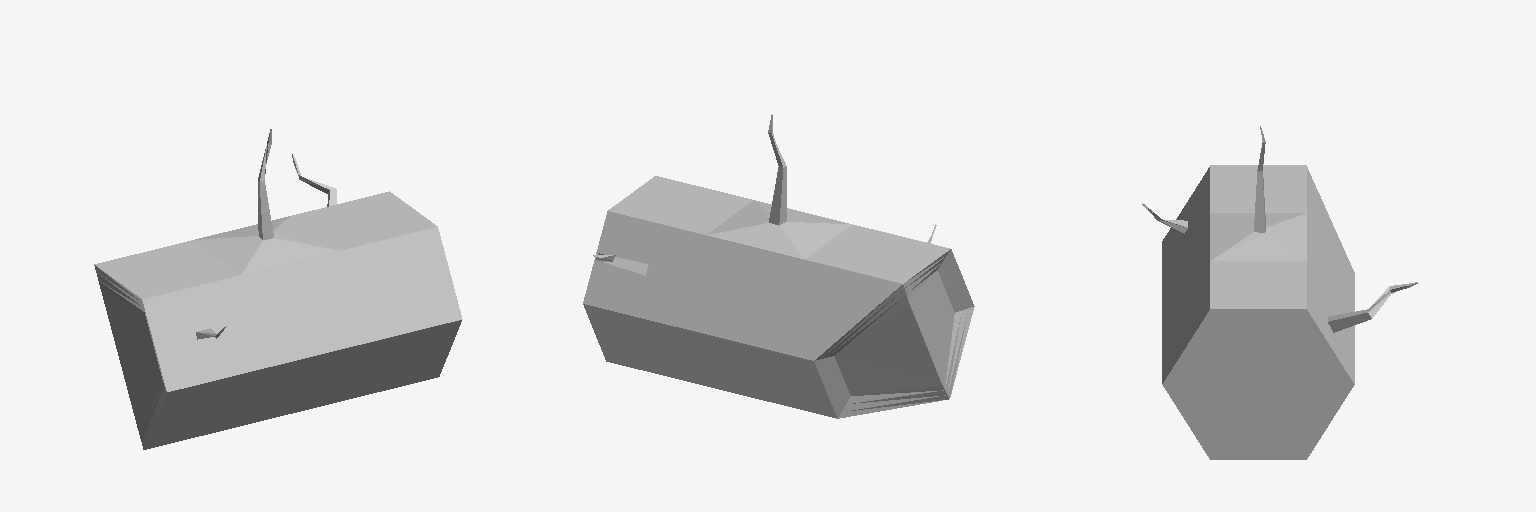
The model's file is log2.obj.
3 views of the same model, side by side, from view 1: azimuth 30°, elevation 25°; view 2: azimuth 150°, elevation 25°; view 3: azimuth 270°, elevation 25° (orthographic).
Visible parts, largest first — view 1: i_Cylinder; view 2: i_Cylinder; view 3: i_Cylinder.
Boxes of the visible parts, x1=… form: i_Cylinder: x1=94, y1=129, x2=462, y2=449; i_Cylinder: x1=583, y1=114, x2=974, y2=418; i_Cylinder: x1=1142, y1=126, x2=1417, y2=459.
Size of the model in its own units: 3.57 by 3.05 by 2.88.